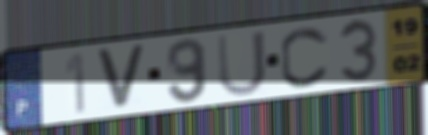1: (64, 49, 88, 117)
3: (338, 16, 380, 85)
9: (164, 36, 210, 106)
C: (278, 24, 331, 90)
U: (214, 28, 269, 99)
V: (93, 43, 149, 111)
